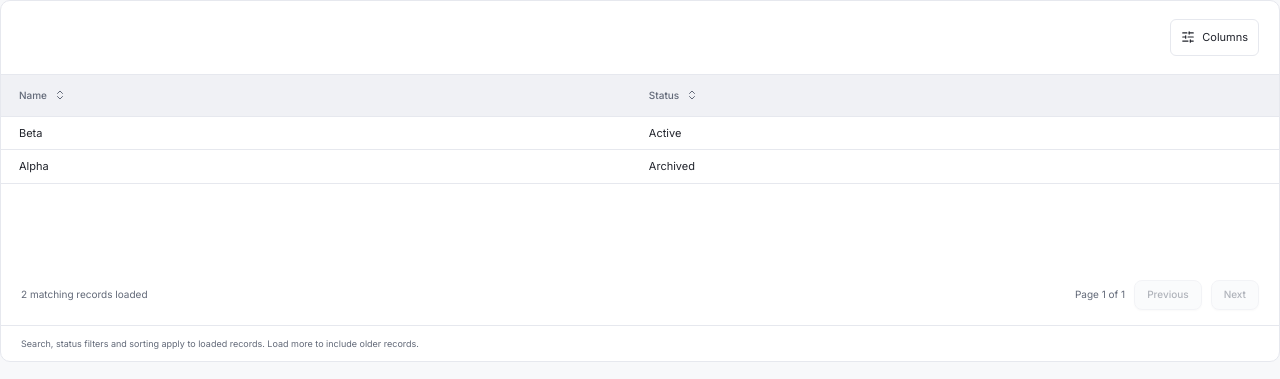
Test: sorts loaded records and hides optional columns
Later steps or results of the test are not shown.
Step 1. Click the button "Name" → [42, 95], box [19, 88, 66, 102]
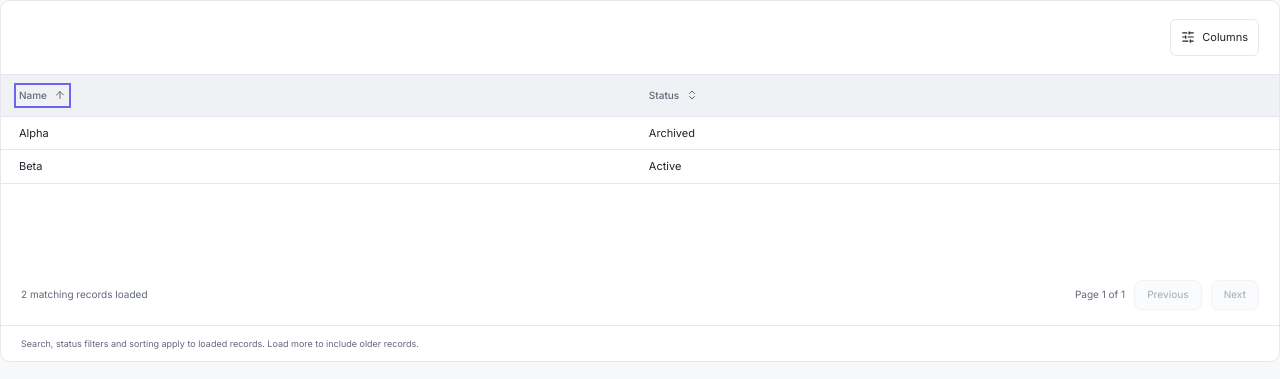
Expected: the text "Alpha" is shown, [1, 116, 631, 150]
Expected: the column heading "Name" has attribute aria-sort="ascending", [1, 74, 631, 116]
